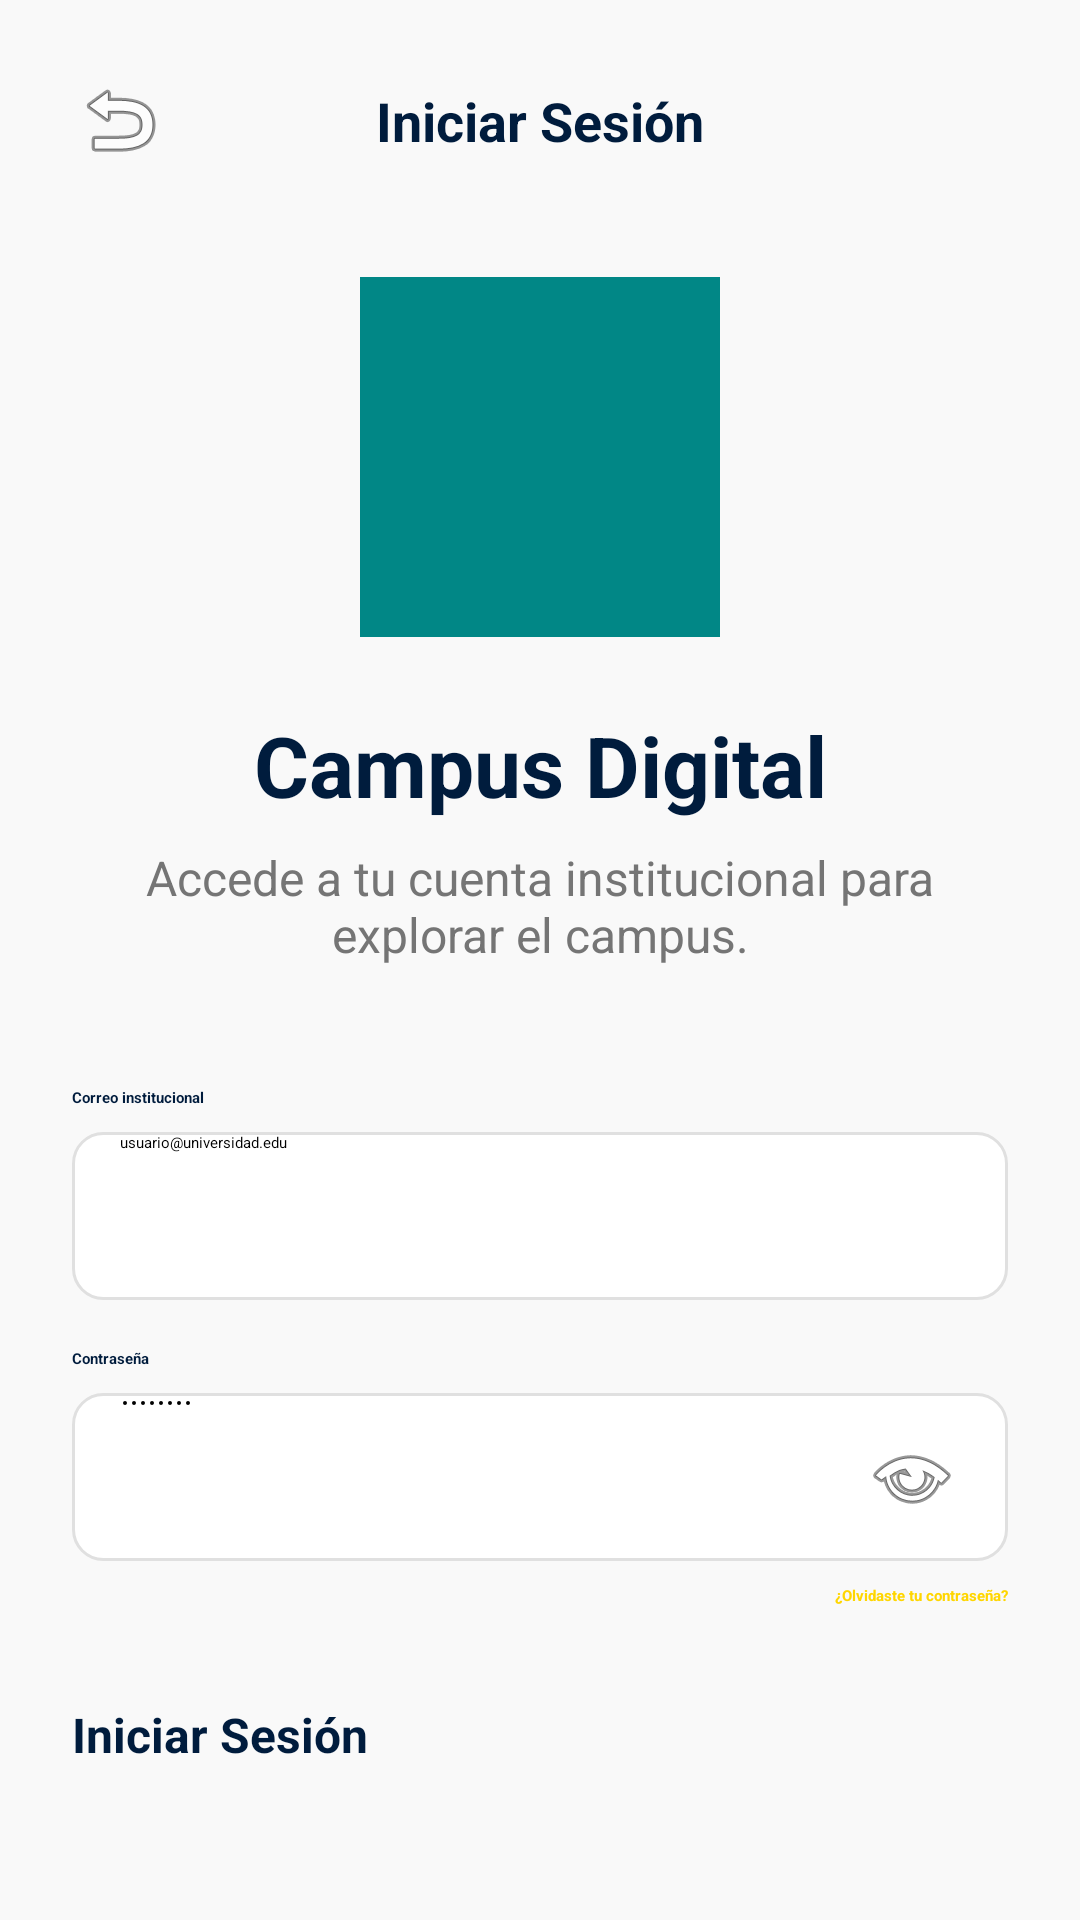

Named icons in this screenshot (1080 x 1920) and their bounding boxes, (x1, y1, x2, y2):
Mostrar contraseña: (873, 1455, 951, 1504)
Regresar: (87, 89, 156, 152)
